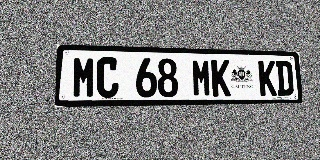6: (136, 58, 157, 97)
8: (157, 58, 178, 97)
C: (96, 57, 119, 98)
D: (275, 61, 294, 96)
K: (211, 59, 231, 97), (258, 60, 277, 96)
M: (72, 56, 96, 98), (192, 59, 212, 97)
